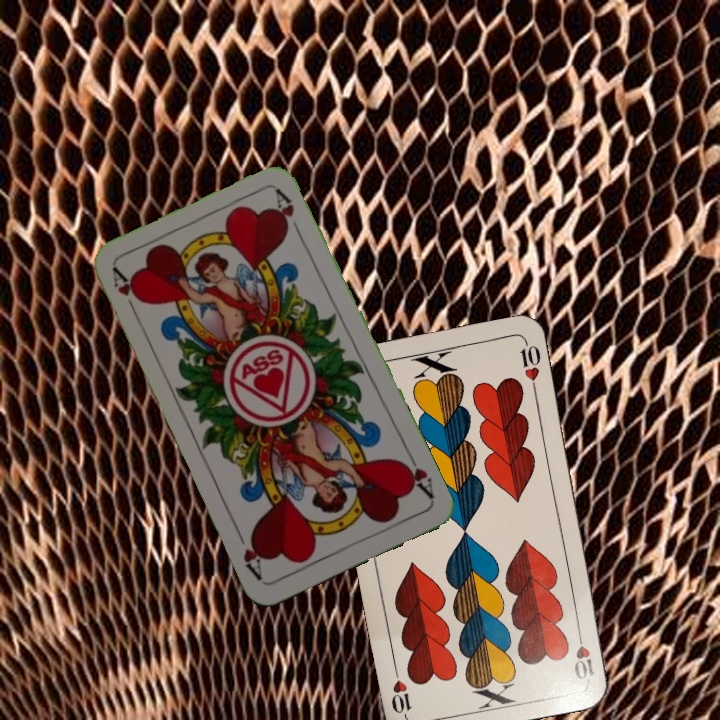H10: (570, 624, 597, 683)
HA: (396, 447, 437, 502), (108, 265, 146, 321)
